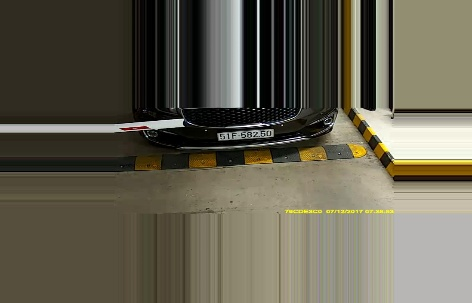plate: (215, 127, 275, 139)
